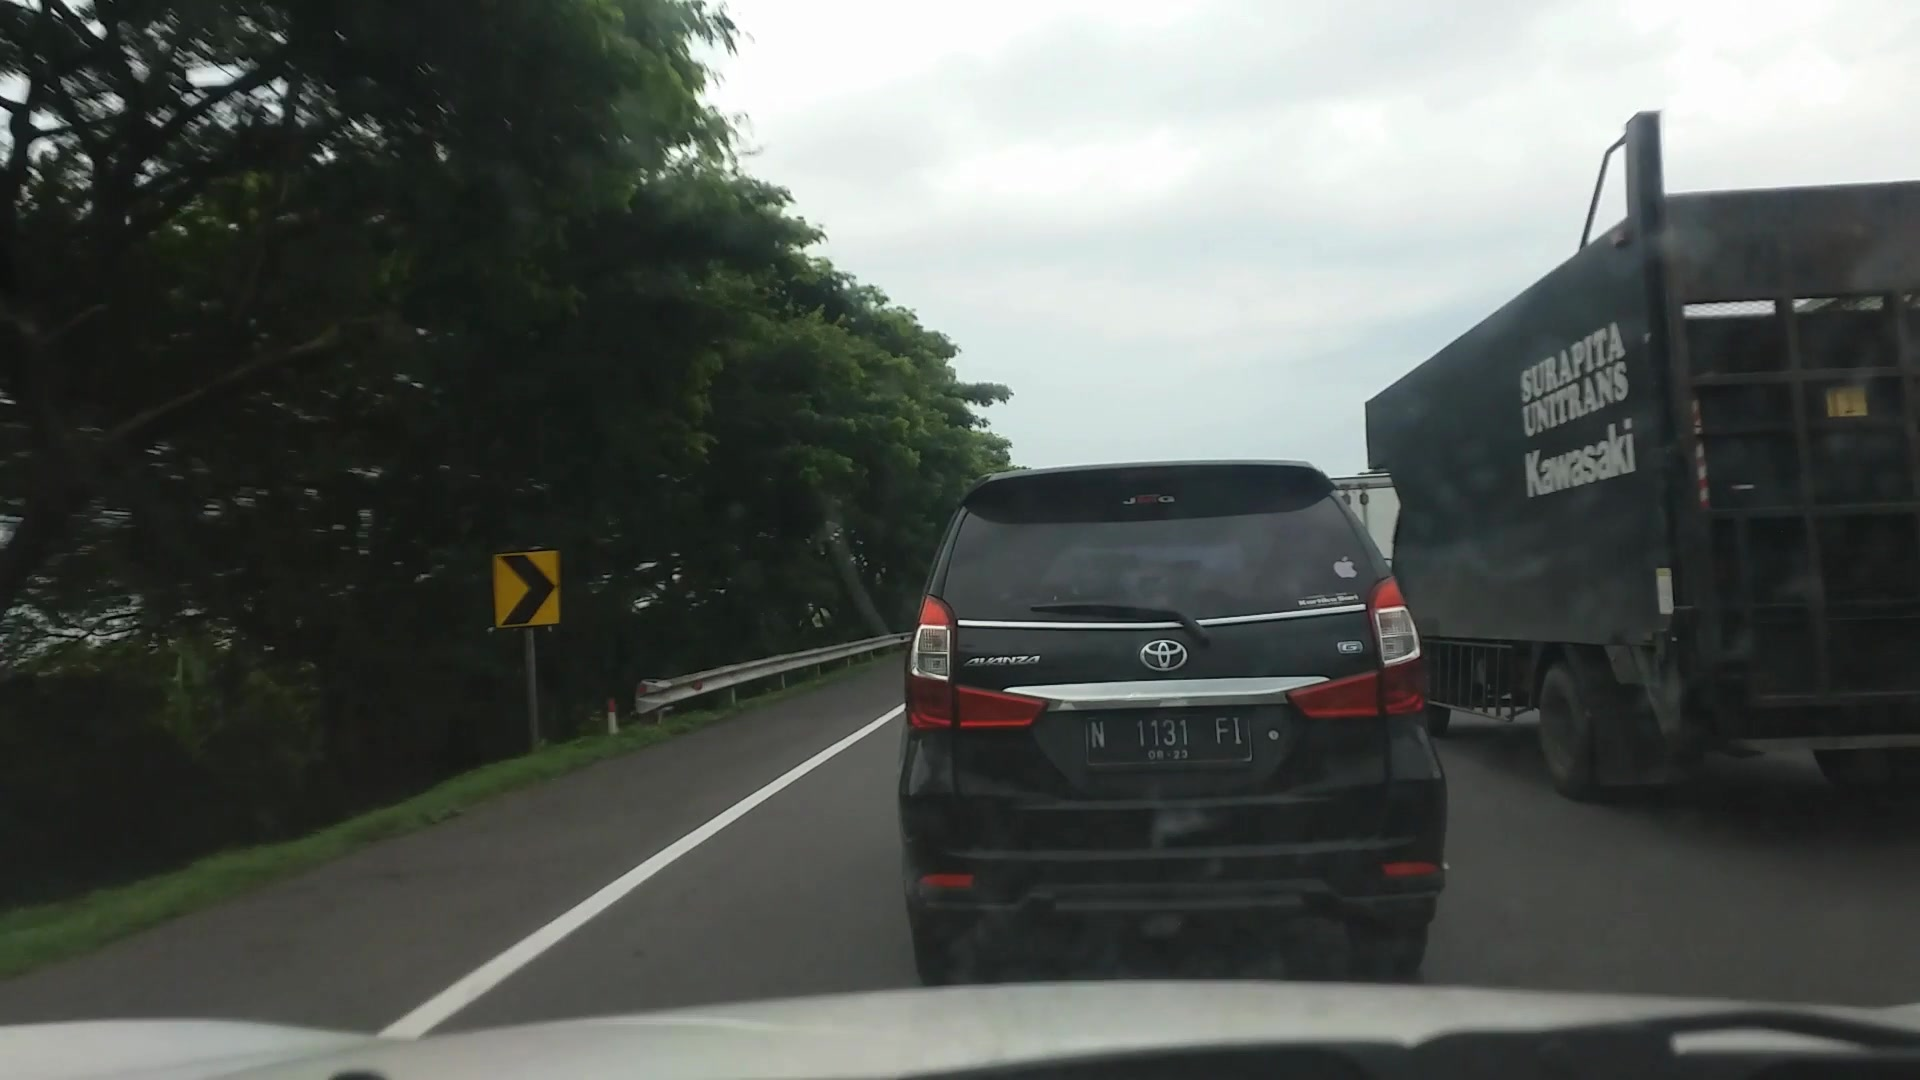plate_positive: (1085, 712, 1251, 765)
